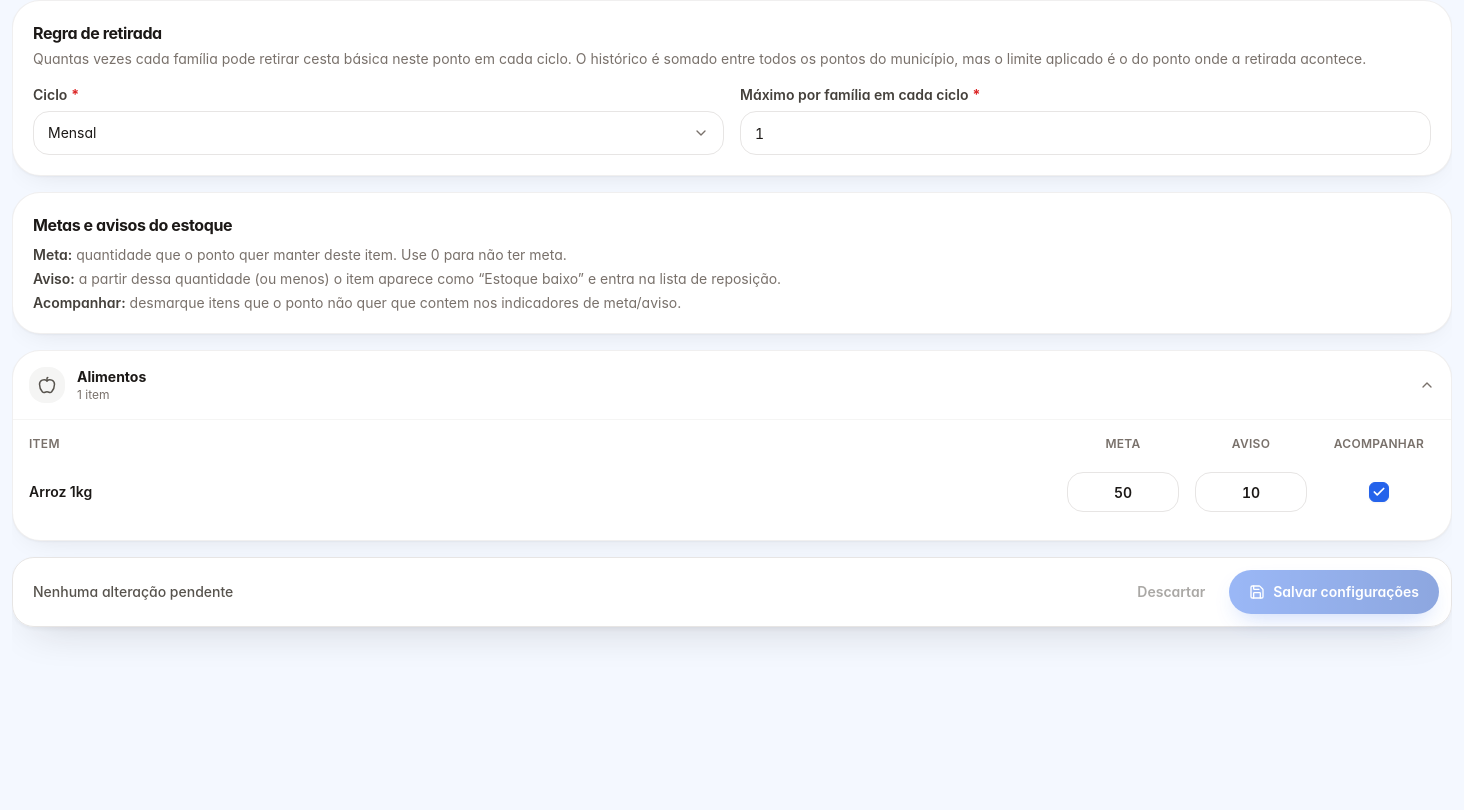
Scenario: StockSettingsEditor › desabilita meta e aviso de um item que deixou de ser acompanhado
The width and height of the screenshot is (1464, 810).
What coordinates should you click on to do the following:
click the checkbox named "Acompanhar Arroz 1kg"
I would click on:
 (1379, 492)
Its box is [1369,482,1389,502].
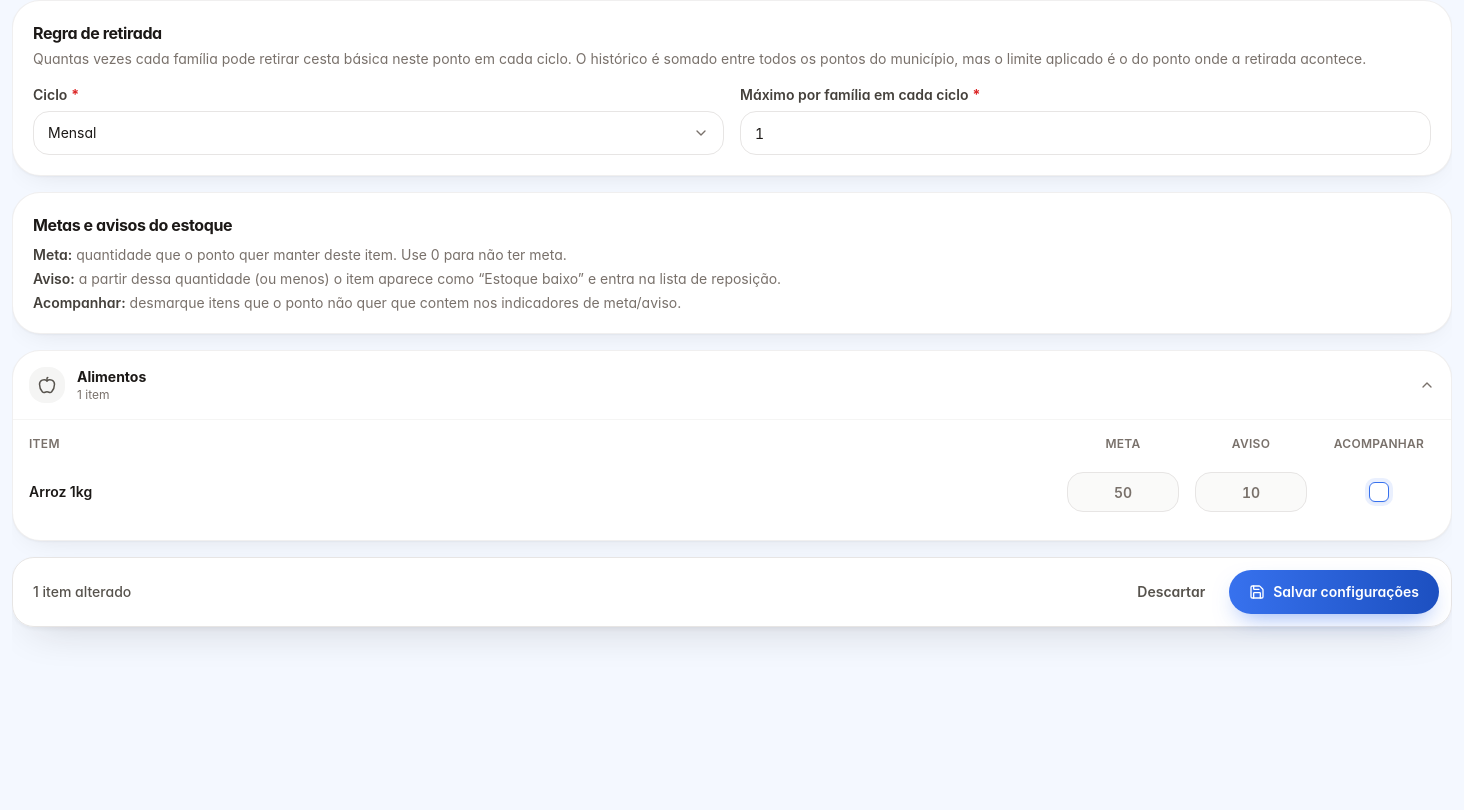
Result: the number field named "Meta de Arroz 1kg" is disabled at [1067,472,1179,512]
Result: the number field named "Aviso de Arroz 1kg" is disabled at [1195,472,1307,512]
